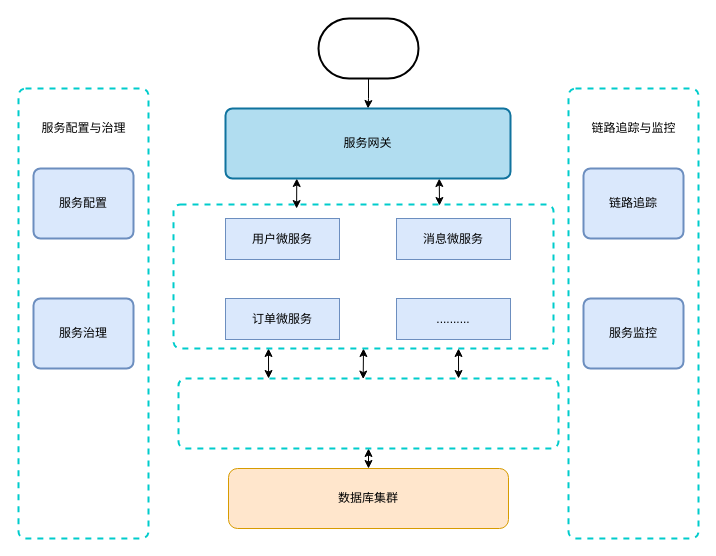
Some shapes in this 716 by 556 pixel diagram are drawn without their labels. The centre of each missing label's shape, as x and y in pixels:
消息总线: (368,413)
用户: (368,48)
